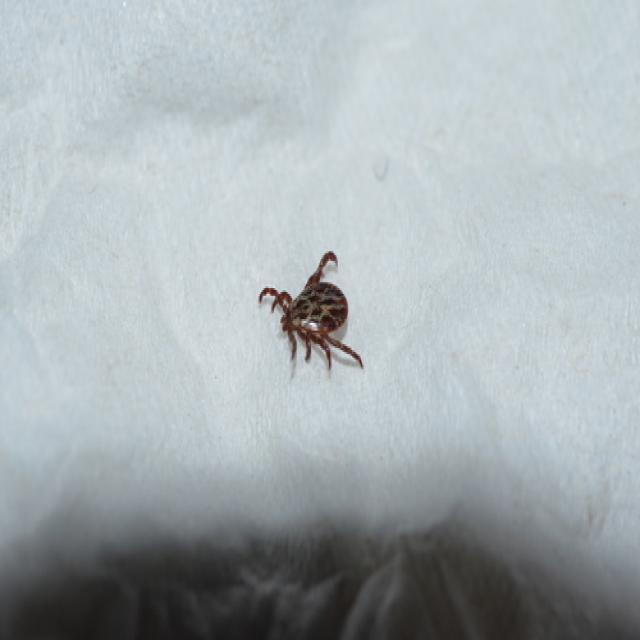Dermacentor Reticulatus-M: (260, 253, 360, 371)
